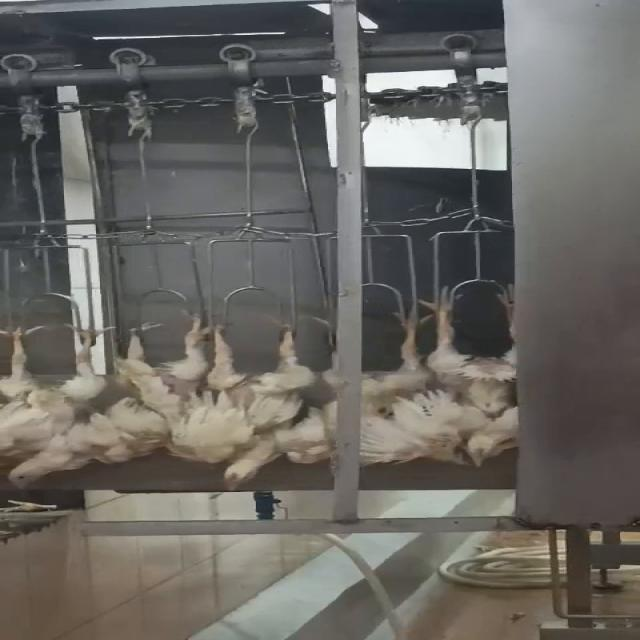chicken: (425, 280, 521, 470), (2, 319, 106, 494), (204, 312, 304, 493), (103, 316, 213, 468), (363, 300, 432, 471), (304, 302, 354, 474)
